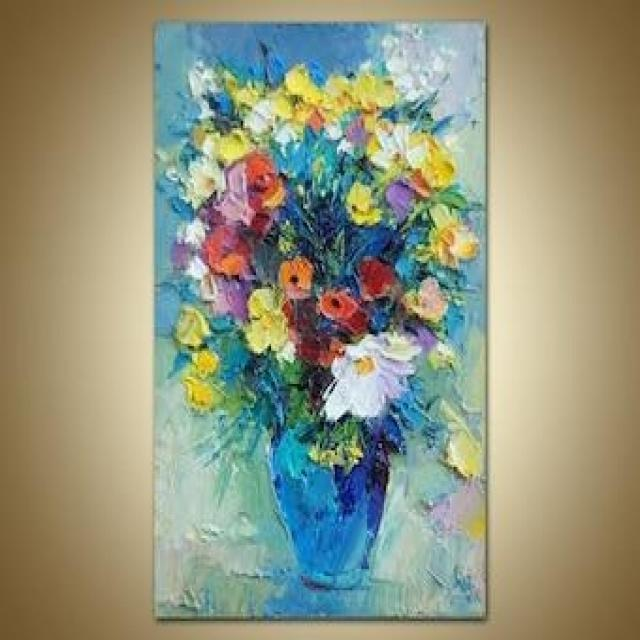painting: (149, 17, 488, 618)
